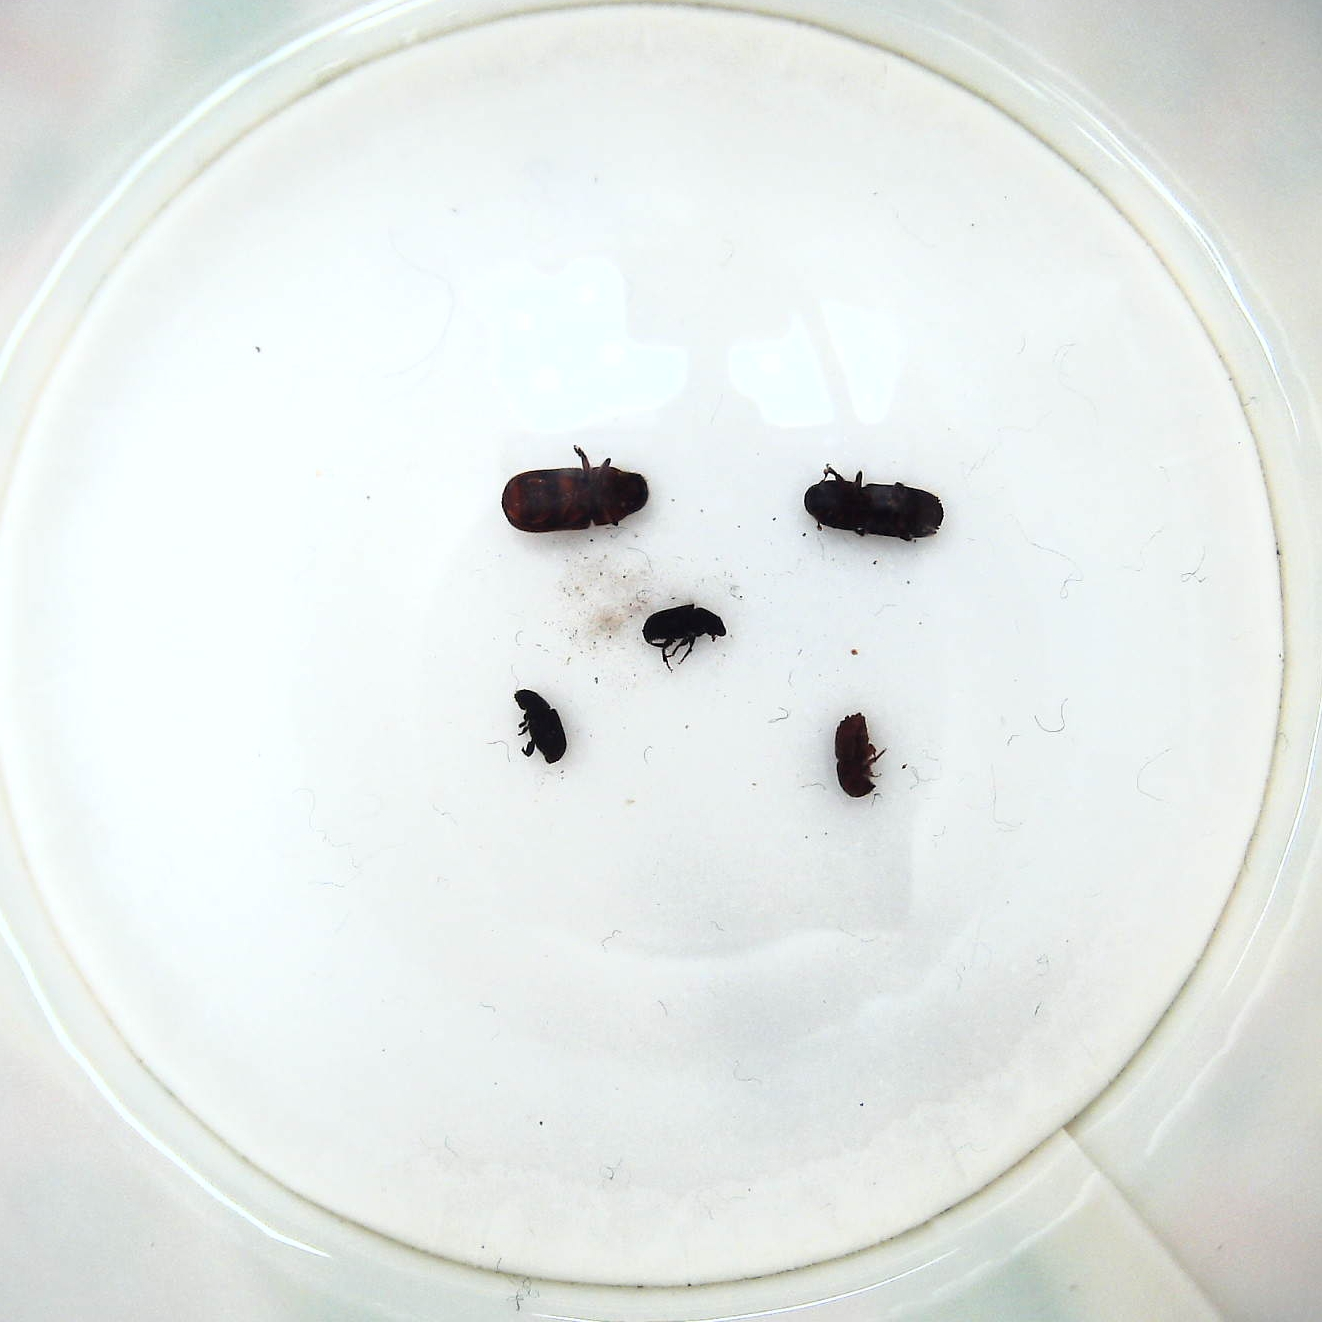Boerner: (804, 465, 950, 553)
Leconte: (499, 441, 653, 544)
armandi: (511, 680, 570, 770)
coleoptera: (638, 602, 728, 669)
linnaeus: (828, 705, 883, 801)
